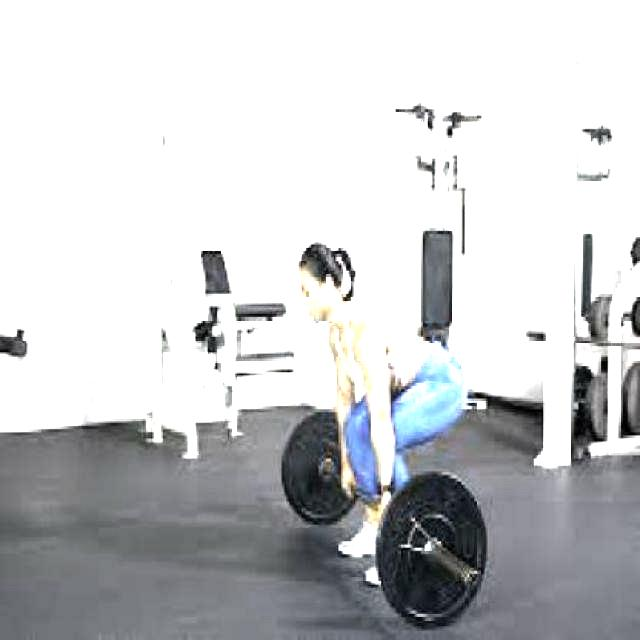barbell: (370, 465, 494, 632)
